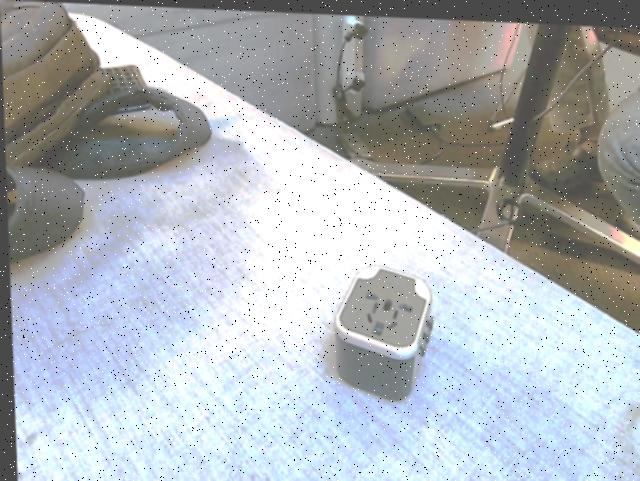adapter: (327, 260, 433, 398)
